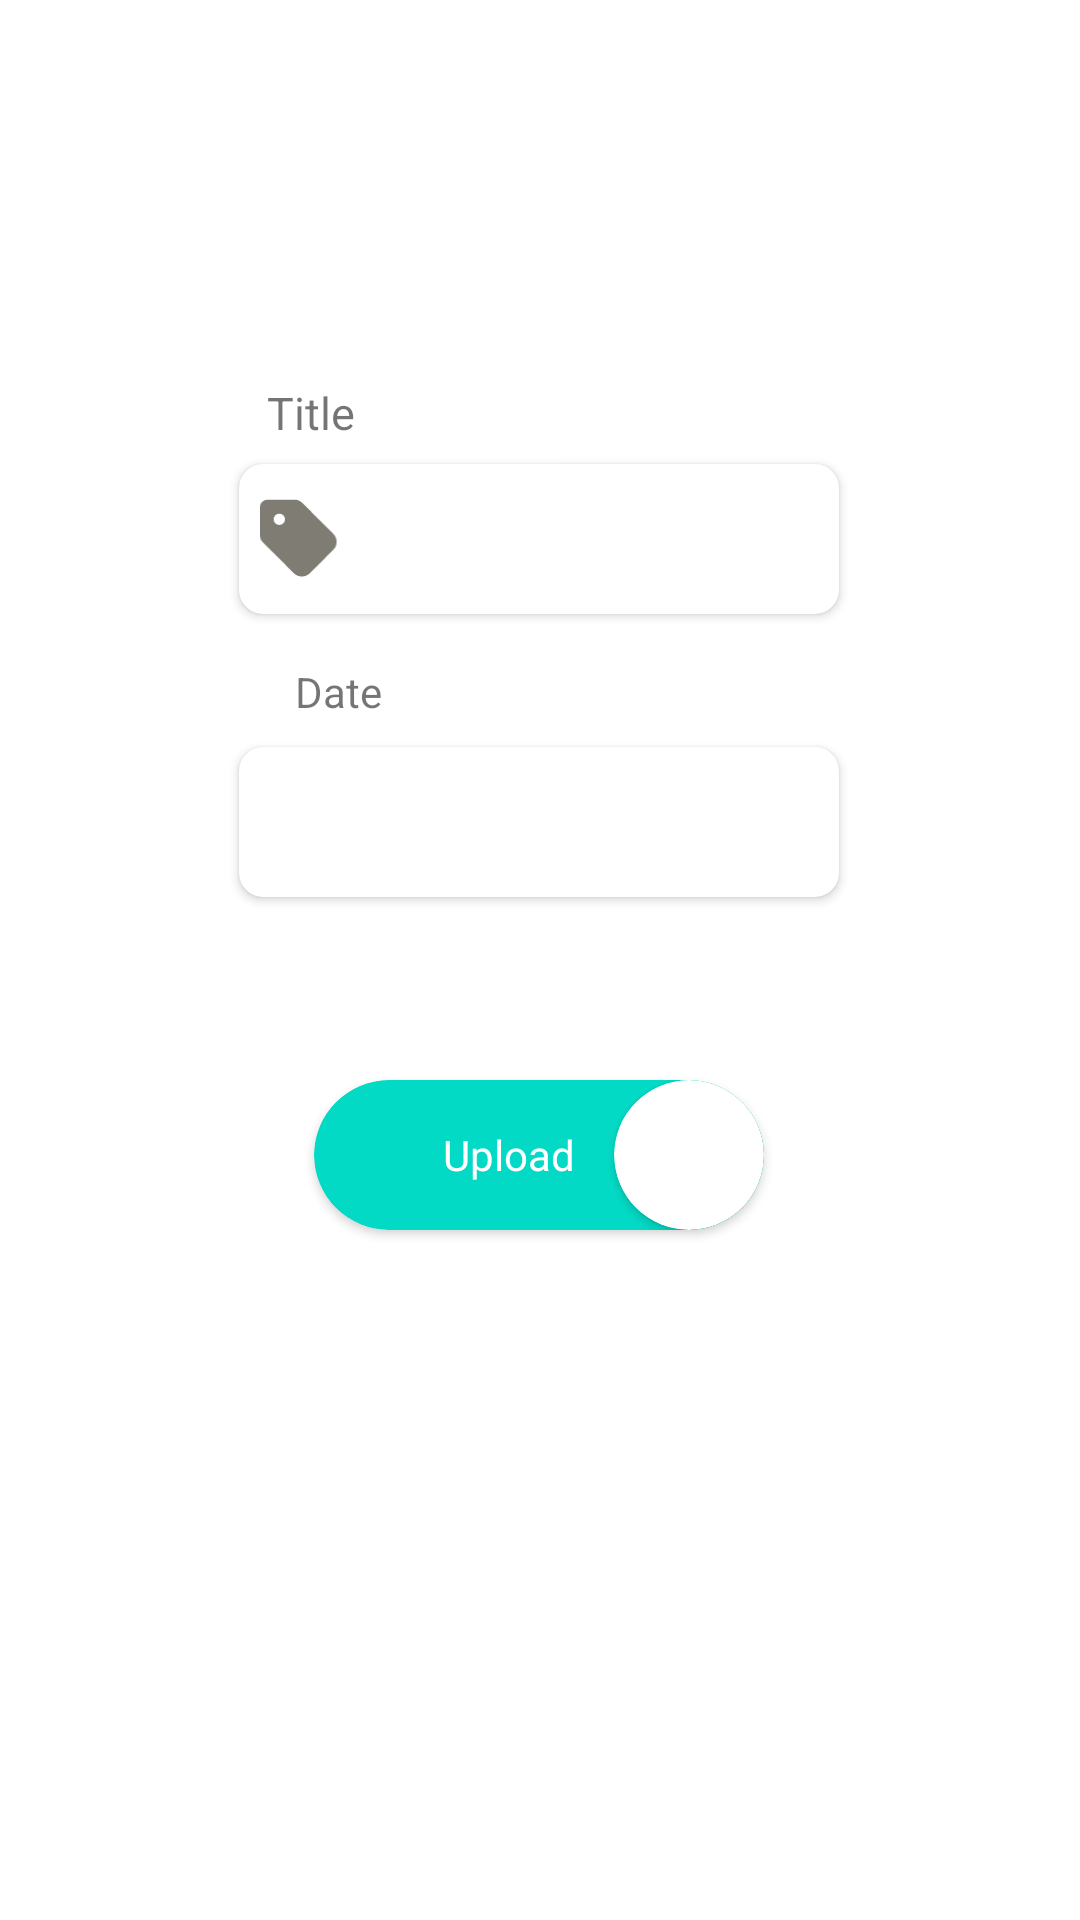

Screen size 1080*1920. Icon name, then its center in pixels as point (x, y):
tag: point (298, 538)
